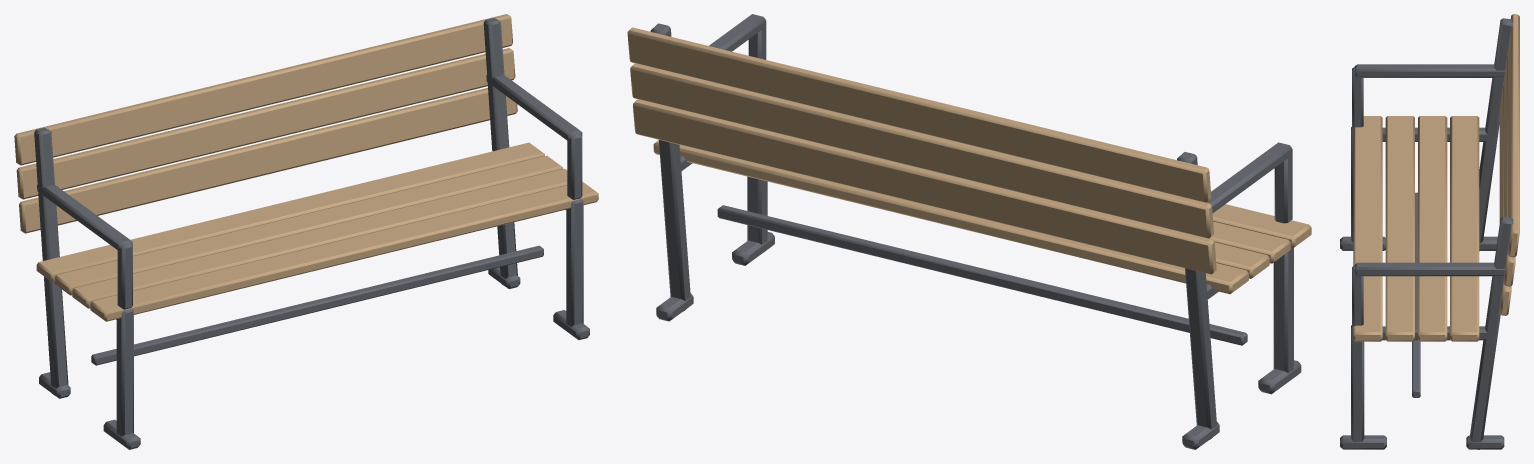
Rendered from Bench.fbx.
3 renders of one model, left to right at view 1: azimuth 30°, elevation 25°; view 2: azimuth 150°, elevation 25°; view 3: azimuth 270°, elevation 25°, orthographic. The views are drawn at different scales.
Parts seen in each view (by area): view 1: Bench; view 2: Bench; view 3: Bench.
Part boxes in pixels (x1,y1,x2,y2): Bench: (14, 14, 598, 449); Bench: (627, 14, 1311, 449); Bench: (1340, 14, 1519, 449).
Size of the model in its own units: 1.76 by 0.8637 by 0.6127.
